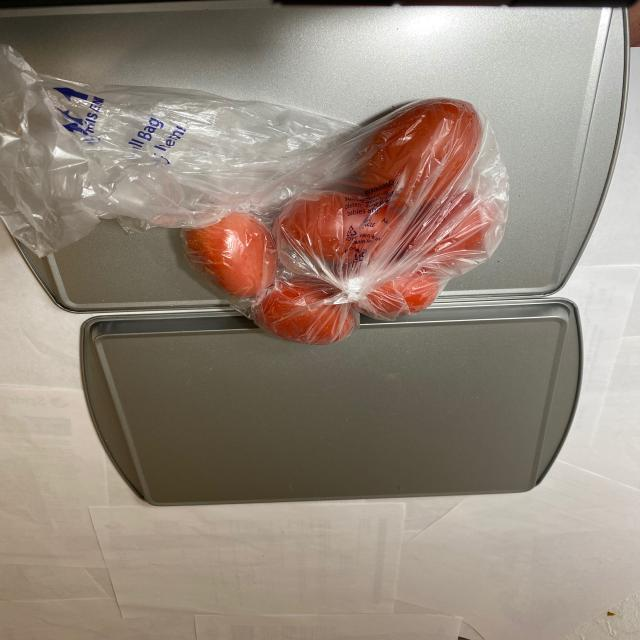tomato: (168, 96, 502, 345)
